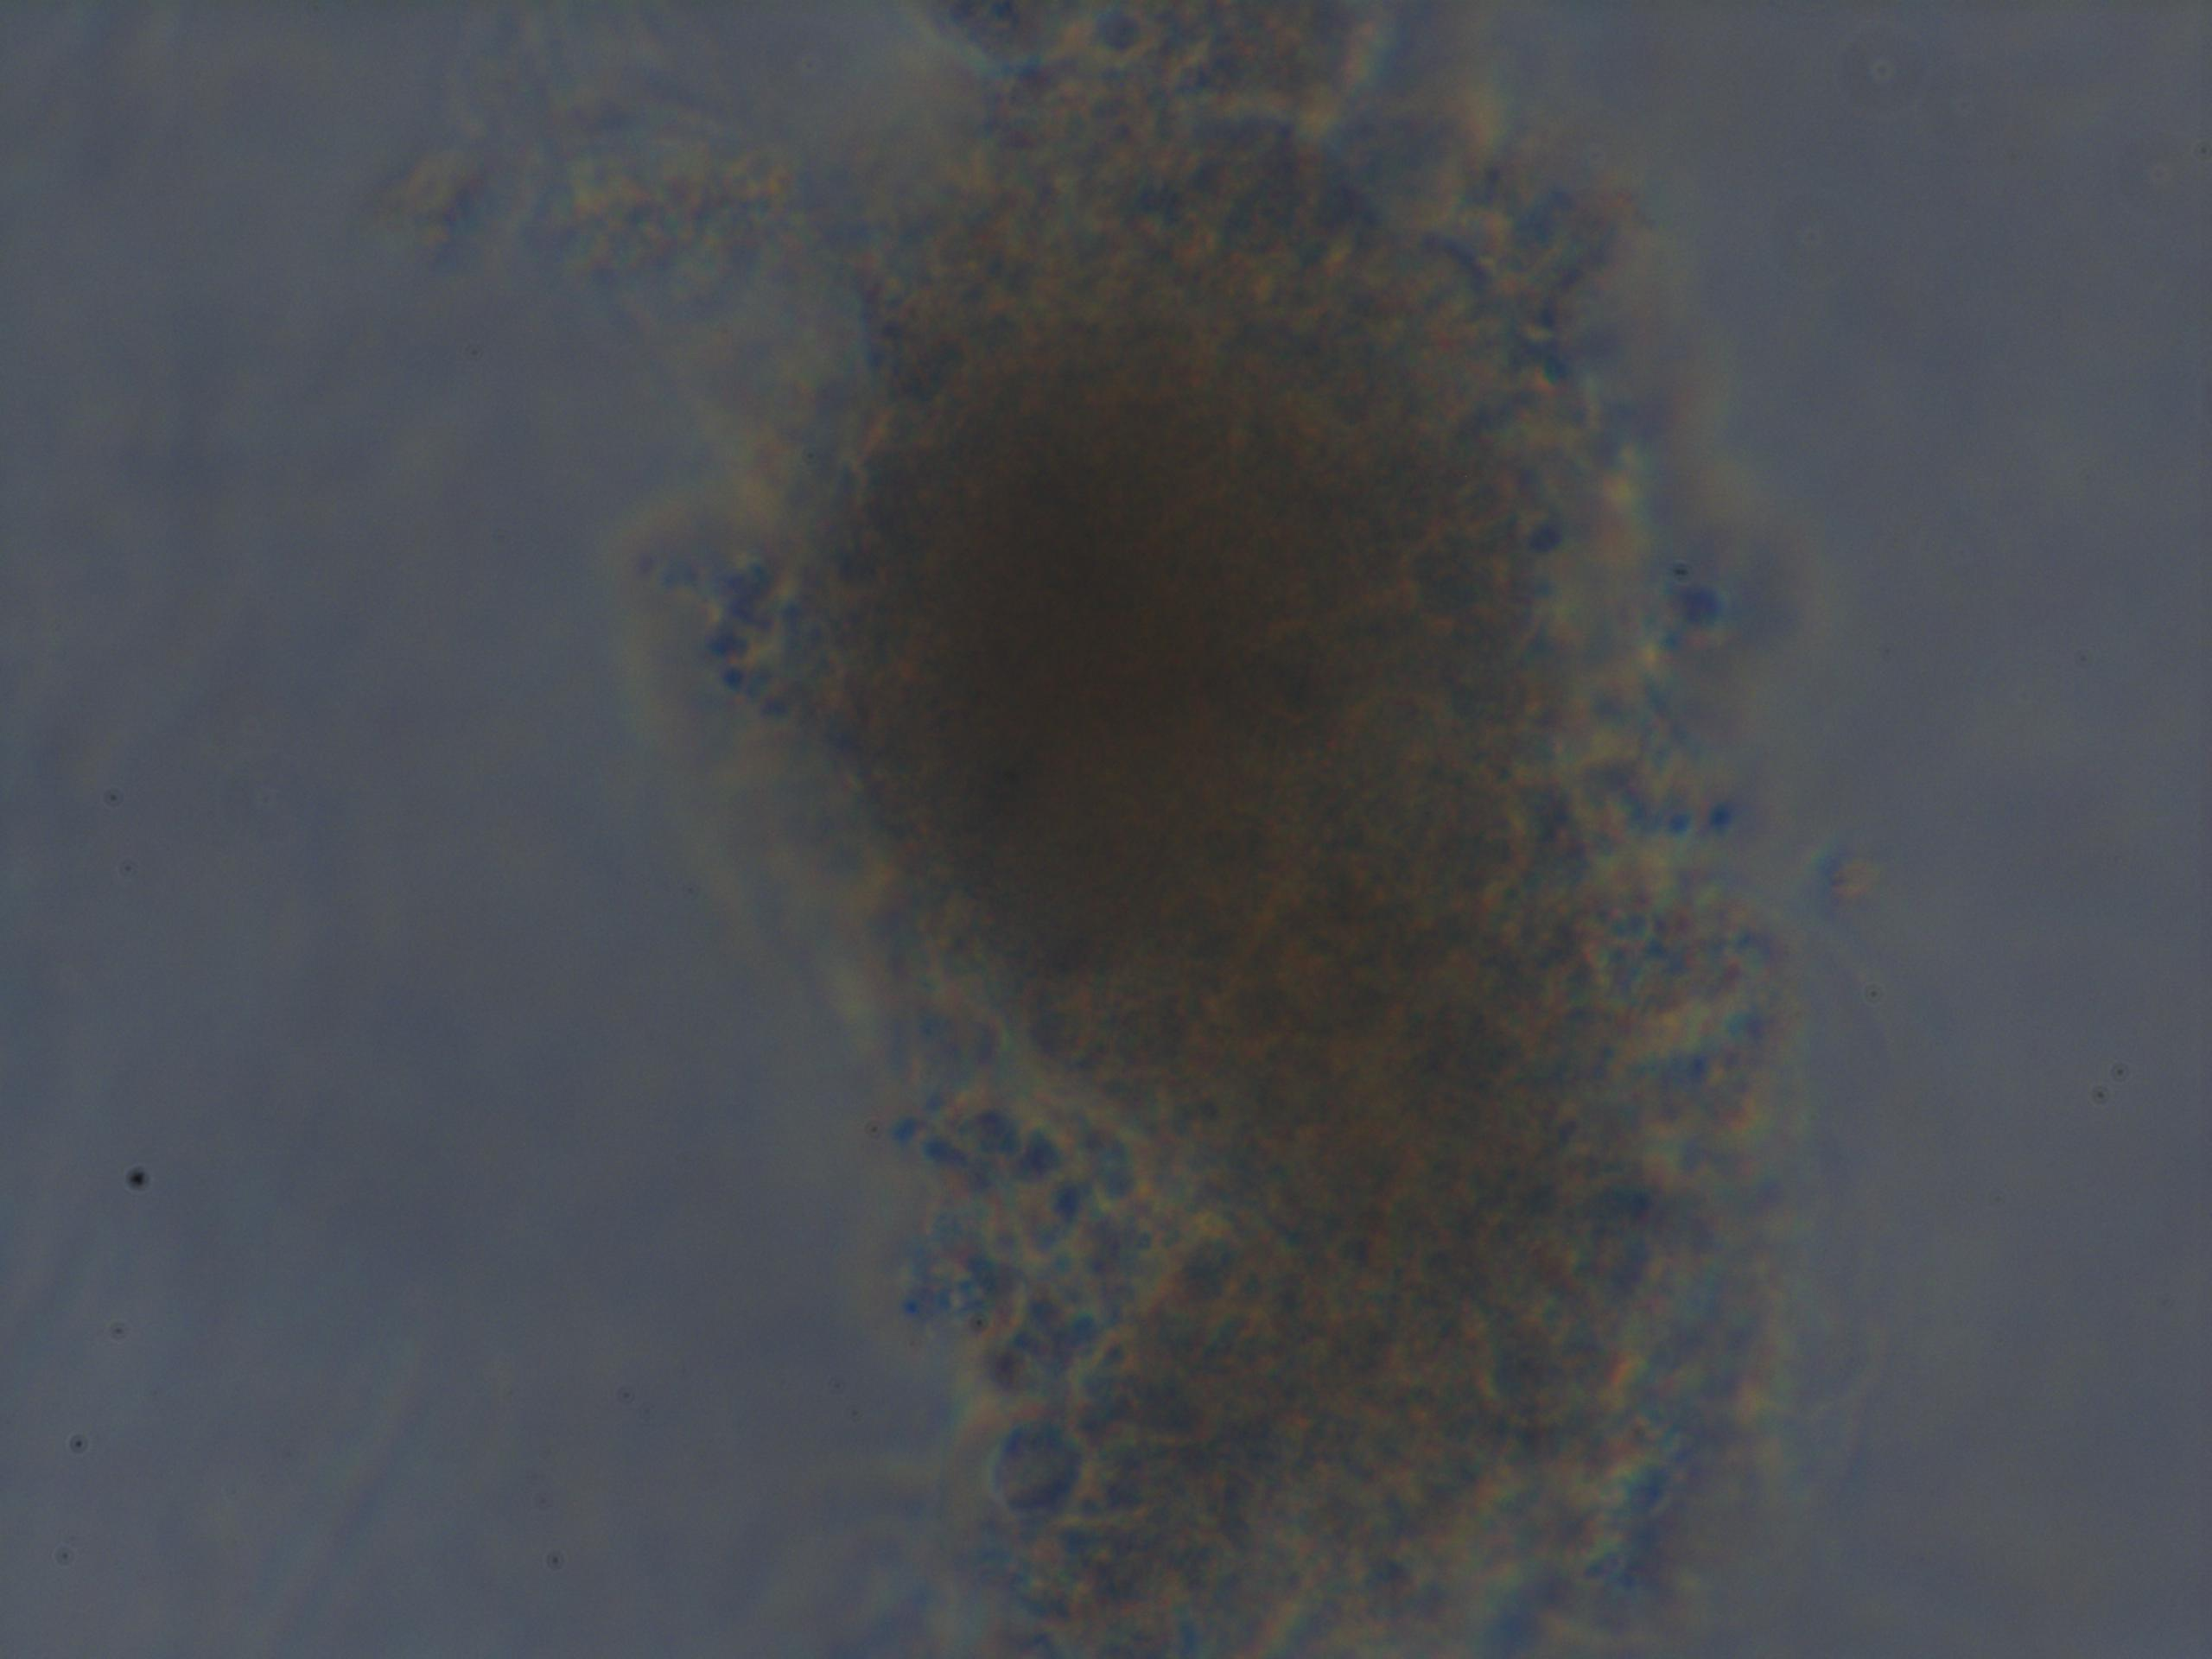spherical_floc: (714, 92, 1740, 1657)
